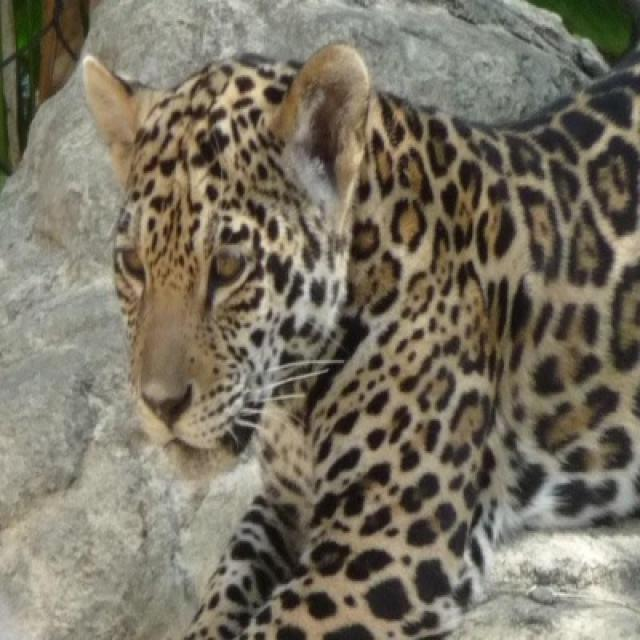Jaguar: (82, 38, 638, 638)
